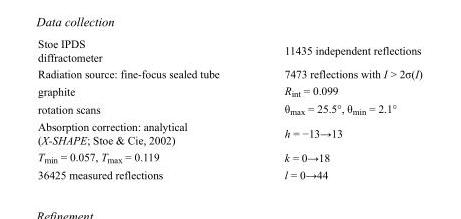table: (37, 36, 421, 180)
table column: (37, 36, 251, 180), (251, 36, 421, 180)
table row: (37, 117, 421, 148), (37, 36, 421, 65), (37, 81, 421, 99), (37, 99, 421, 117), (37, 148, 421, 166), (37, 65, 421, 81), (37, 166, 421, 180)
